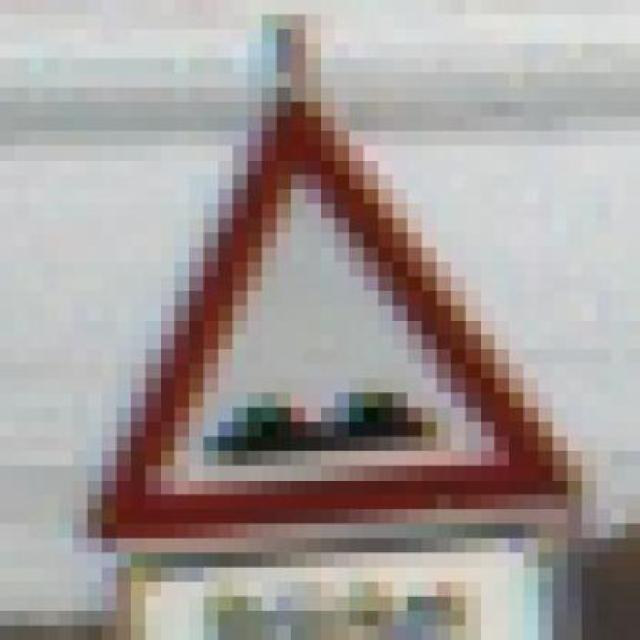Uneven Road: (87, 87, 596, 553)
